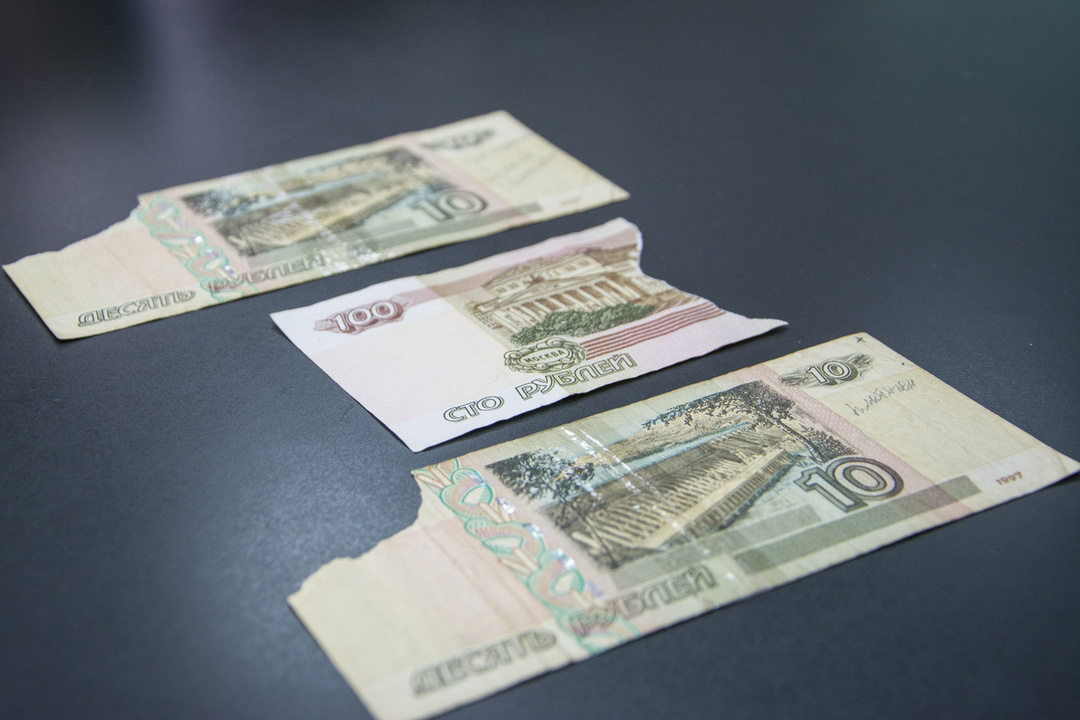cash: (284, 327, 1079, 720), (5, 109, 642, 342), (263, 216, 792, 455)
